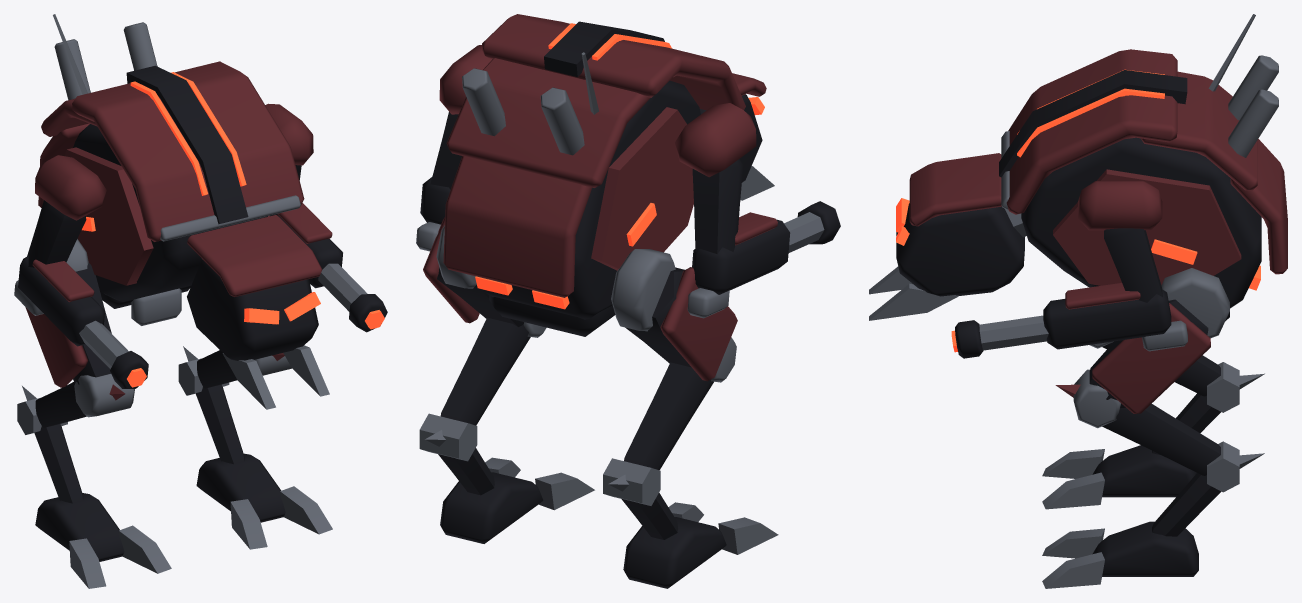
Rendered from enemy_grunt.glb.
The picture shows the model from 3 angles, left to right: view 1: azimuth 30°, elevation 25°; view 2: azimuth 150°, elevation 25°; view 3: azimuth 270°, elevation 25°; orthographic projection. The views are drawn at different scales.
Visible parts, largest first — view 1: torso, head, arm_r_lower, leg_r_toe, leg_l_toe, leg_r_upper, arm_r_upper, arm_l_lower, leg_r_lower, leg_l_foot, leg_r_foot, leg_l_lower (+3 smaller); view 2: torso, leg_r_upper, arm_r_upper, arm_r_lower, leg_l_lower, leg_r_lower, leg_r_toe, leg_l_toe, leg_l_upper, arm_l_upper, body, head (+3 smaller); view 3: torso, head, leg_l_upper, arm_l_lower, leg_l_toe, arm_l_upper, leg_r_toe, leg_l_lower, leg_r_lower, leg_l_foot, leg_r_foot.
Boxes of the visible parts, <box> form: torso: <box>38,14,304,301</box>; head: <box>187,215,329,409</box>; arm_r_lower: <box>14,256,148,388</box>; leg_r_toe: <box>35,493,171,588</box>; leg_l_toe: <box>196,453,332,549</box>; leg_r_upper: <box>25,239,134,417</box>; arm_r_upper: <box>27,155,106,267</box>; arm_l_lower: <box>270,203,387,332</box>; leg_r_lower: <box>17,382,86,434</box>; leg_l_foot: <box>195,384,244,464</box>; leg_r_foot: <box>34,424,83,503</box>; leg_l_lower: <box>178,346,237,395</box>; torso: <box>443,14,745,319</box>; leg_r_upper: <box>611,249,737,382</box>; arm_r_upper: <box>675,103,756,254</box>; arm_r_lower: <box>687,201,840,318</box>; leg_l_lower: <box>419,317,530,461</box>; leg_r_lower: <box>603,362,713,505</box>; leg_r_toe: <box>623,502,778,588</box>; leg_l_toe: <box>440,457,594,543</box>; leg_l_upper: <box>423,217,546,337</box>; arm_l_upper: <box>430,45,492,189</box>; body: <box>489,295,615,336</box>; head: <box>700,73,774,200</box>; torso: <box>999,14,1287,308</box>; head: <box>869,153,1024,320</box>; leg_l_upper: <box>1055,268,1229,428</box>; arm_l_lower: <box>951,283,1187,358</box>; leg_l_toe: <box>1042,521,1198,588</box>; arm_l_upper: <box>1078,181,1162,302</box>; leg_r_toe: <box>1042,445,1196,509</box>; leg_l_lower: <box>1102,403,1264,492</box>; leg_r_lower: <box>1102,342,1264,412</box>; leg_l_foot: <box>1152,473,1221,536</box>; leg_r_foot: <box>1152,393,1220,454</box>.
Bounding box in the file's own units: 0.705 × 1.2 × 0.9341.
